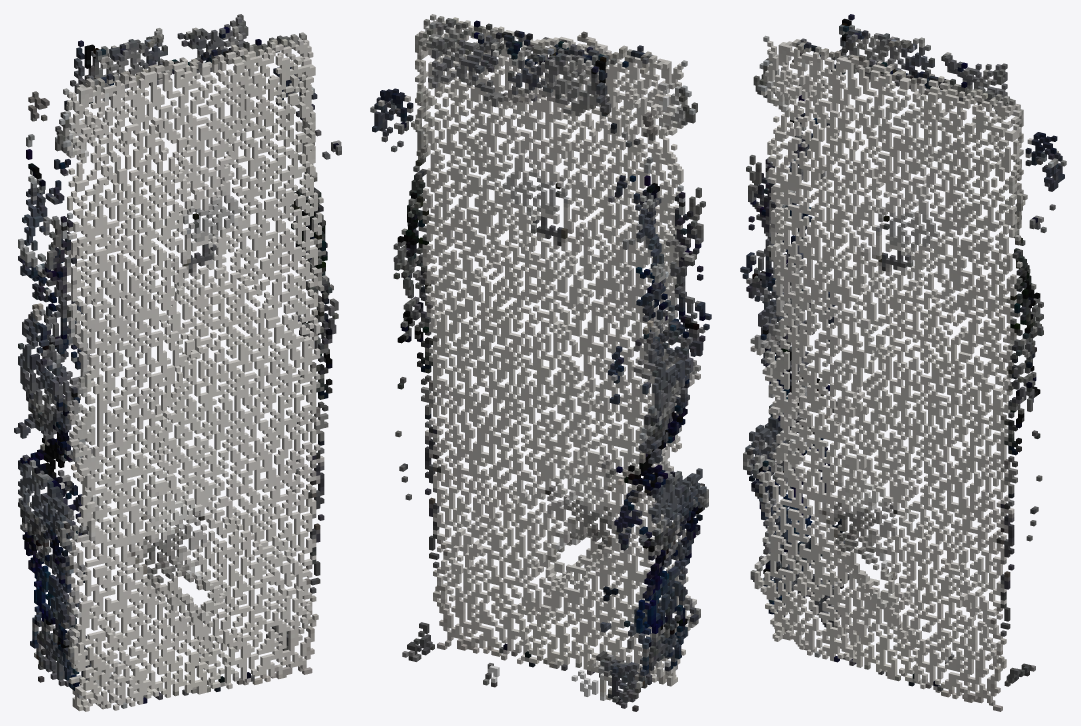
The model's file is table-1.gltf.
3 views of the same model, side by side, from view 1: azimuth 30°, elevation 25°; view 2: azimuth 150°, elevation 25°; view 3: azimuth 330°, elevation 25° (orthographic). The views are drawn at different scales.
Bounding box in the file's own units: 1.84 × 3.72 × 0.5008.
